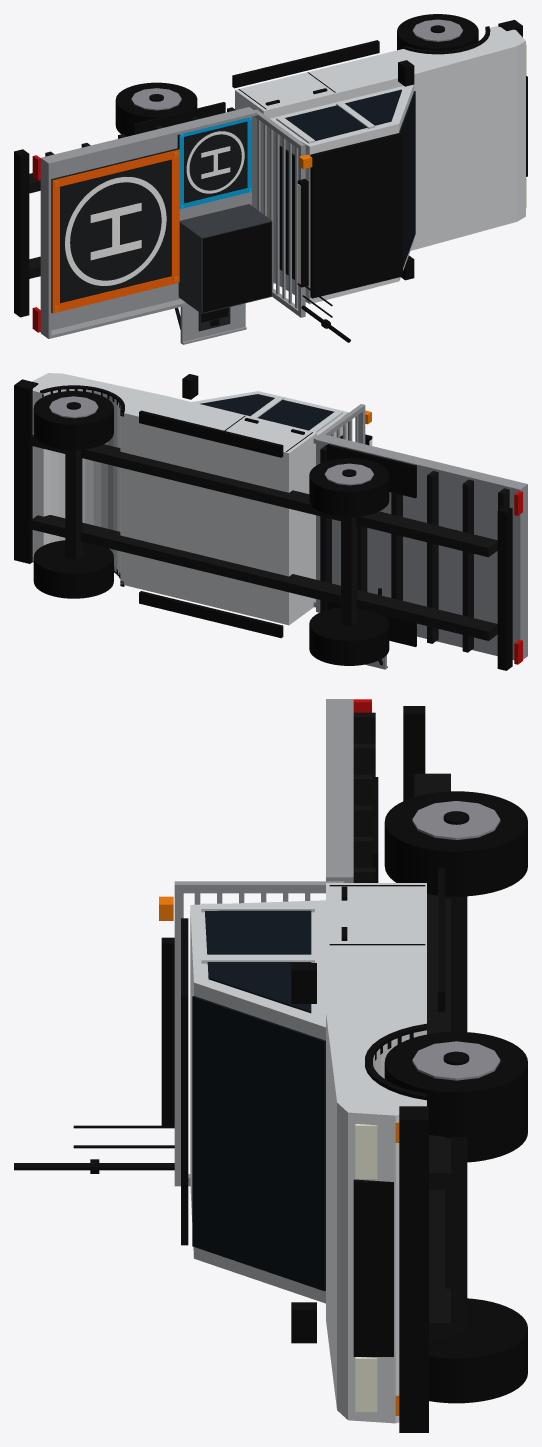
The model's file is aeroaid_ute.obj.
The picture shows the model from 3 angles, top to bottom: view 1: azimuth 30°, elevation 25°; view 2: azimuth 150°, elevation 25°; view 3: azimuth 270°, elevation 25°; orthographic projection. The views are drawn at different scales.
Visible parts, largest first — view 1: body_lower, roof_rack, tray_deck, courier_ring_in, courier_base, locker_seam, cab_upper, locker, cab_side_glass, bumper_rear, step_1, tyre_-1.15_1 (+31 smaller); view 2: body_lower, tray_deck, chassis_rail_-1, chassis_rail_1, tyre_-1.15_-1, tyre_1.95_-1, bumper_front, tyre_1.95_1, tyre_-1.15_1, bumper_rear, cab_side_glass, step_1 (+18 smaller); view 3: windscreen, body_lower, tyre_-1.15_1, bumper_front, tyre_1.95_1, cab_upper, tyre_1.95_-1, cab_side_glass, grille, chassis_rail_1, axle_1.95, tray_side_1 (+20 smaller).
Part boxes in pixels (x1,y1,x2,y2): body_lower: (235, 26, 525, 284); roof_rack: (310, 132, 402, 298); tray_deck: (40, 107, 251, 334); courier_ring_in: (70, 182, 161, 280); courier_base: (51, 148, 178, 312); locker_seam: (202, 222, 271, 312); cab_upper: (267, 84, 414, 304); locker: (178, 204, 272, 313); cab_side_glass: (285, 89, 401, 140); bumper_rear: (14, 149, 29, 317); step_1: (232, 40, 379, 88); tyre_-1.15_1: (115, 82, 197, 136); body_lower: (32, 373, 317, 625); tray_deck: (316, 438, 522, 659); chassis_rail_-1: (31, 515, 497, 640); chassis_rail_1: (31, 434, 497, 557); tyre_-1.15_-1: (309, 607, 389, 665); tyre_1.95_-1: (33, 540, 113, 598); bumper_front: (14, 379, 38, 563); tyre_1.95_1: (33, 391, 113, 449); tyre_-1.15_1: (309, 458, 389, 516); bumper_rear: (497, 506, 512, 670); cab_side_glass: (200, 394, 334, 430); step_1: (139, 410, 283, 457); windscreen: (192, 996, 325, 1291); body_lower: (326, 883, 426, 1423); tyre_-1.15_1: (384, 791, 527, 896); bumper_front: (399, 1106, 428, 1432); tyre_1.95_1: (384, 1031, 527, 1137); cab_upper: (190, 900, 325, 1303); tyre_1.95_-1: (429, 1298, 527, 1403); cab_side_glass: (205, 910, 311, 1013); grille: (353, 1179, 393, 1356); chassis_rail_1: (414, 773, 450, 1189); axle_1.95: (445, 1137, 467, 1332); tray_side_1: (326, 699, 344, 881).
Bounding box in the file's own units: 5.53 × 2.5 × 2.8.
